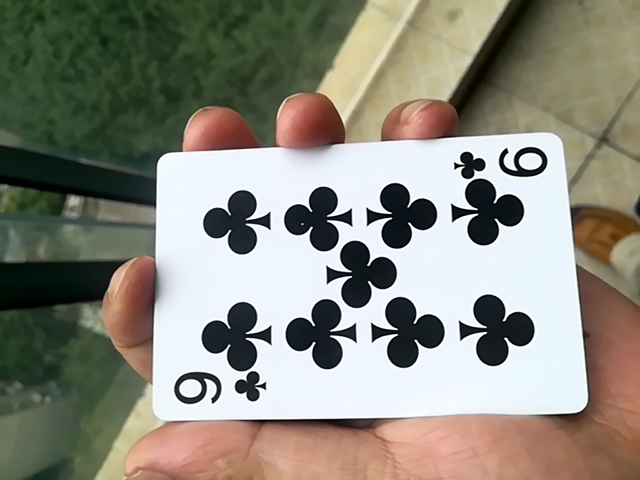mh 9: (135, 132, 581, 435)
